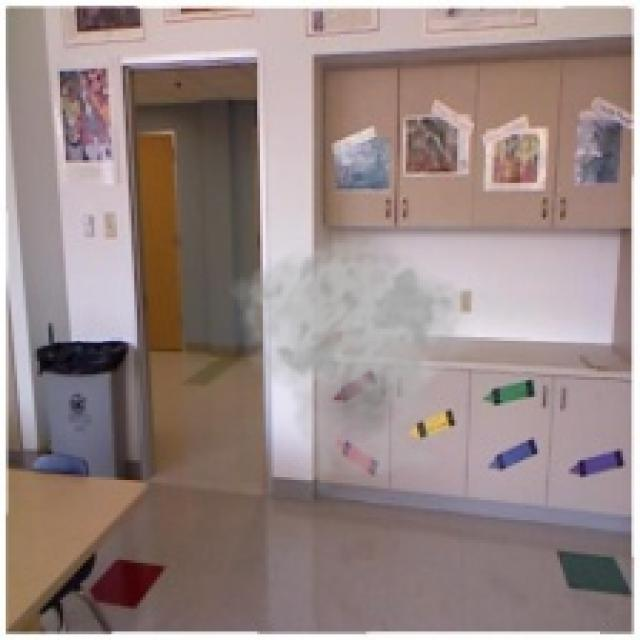smoke: (228, 234, 488, 497)
